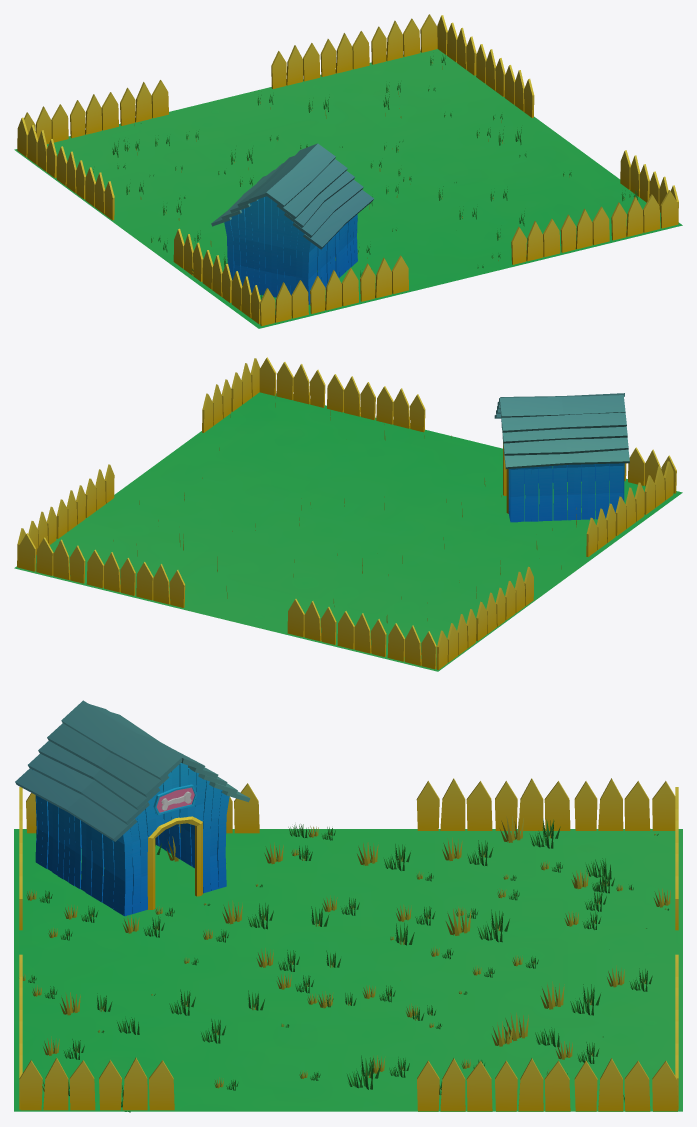
The model's file is garden.gltf.
3 views of the same model, one above another, from view 1: azimuth 30°, elevation 25°; view 2: azimuth 150°, elevation 25°; view 3: azimuth 270°, elevation 25° (orthographic). The views are drawn at different scales.
Parts seen in each view (by area): view 1: Plane.000, Cube.016, Cube.011, Cube.001; view 2: Plane.000, Cube.016, Cube.001, Cube.011; view 3: Plane.000, Cube.016, Cube.011, Cube.001, Cube.007.
Boxes of the visible parts, <box> form: Plane.000: <box>14,49,682,328</box>; Cube.016: <box>17,14,678,326</box>; Cube.011: <box>224,196,357,304</box>; Cube.001: <box>211,143,373,249</box>; Plane.000: <box>14,392,682,671</box>; Cube.016: <box>17,357,676,669</box>; Cube.001: <box>494,393,629,468</box>; Cube.011: <box>503,442,624,522</box>; Plane.000: <box>14,829,682,1111</box>; Cube.016: <box>19,778,678,1111</box>; Cube.011: <box>32,763,229,916</box>; Cube.001: <box>15,700,250,841</box>; Cube.007: <box>153,784,196,815</box>.
Size of what is drawn, in the model's own units: 10 by 2.67 by 10.
Materials: 5 (5 with a texture image).
